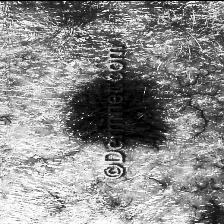Unclassified: (68, 69, 104, 148), (129, 92, 157, 156), (126, 60, 158, 105), (186, 198, 224, 224)
